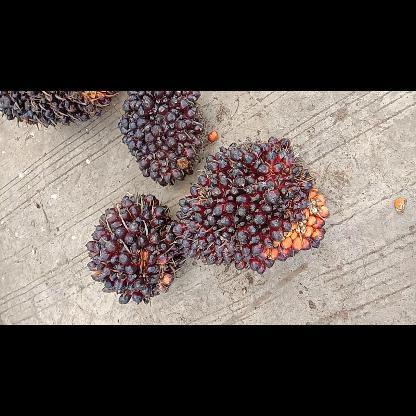TBS mentah: (174, 136, 332, 276), (82, 192, 186, 308), (116, 91, 209, 187)
